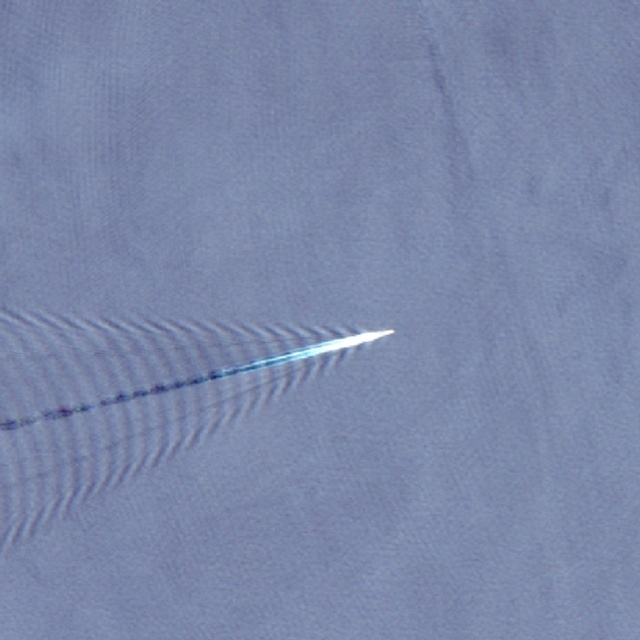wake: (98, 251, 423, 479)
